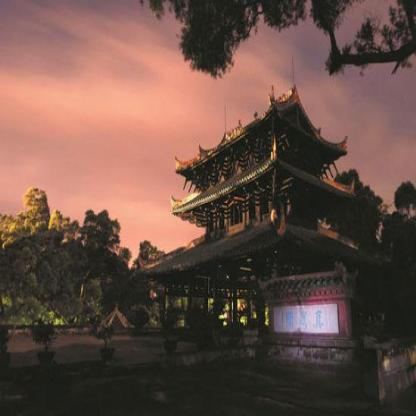other: (211, 292, 270, 328), (12, 189, 58, 230), (171, 186, 199, 210)
